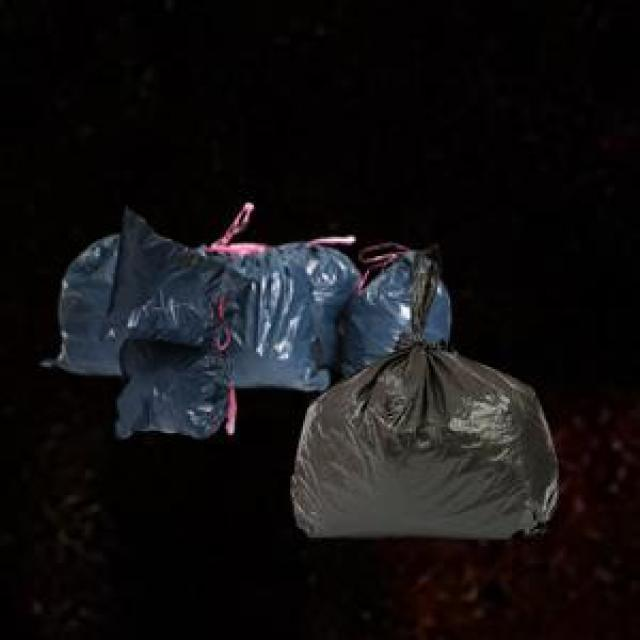Vinyl: (54, 205, 554, 538)
